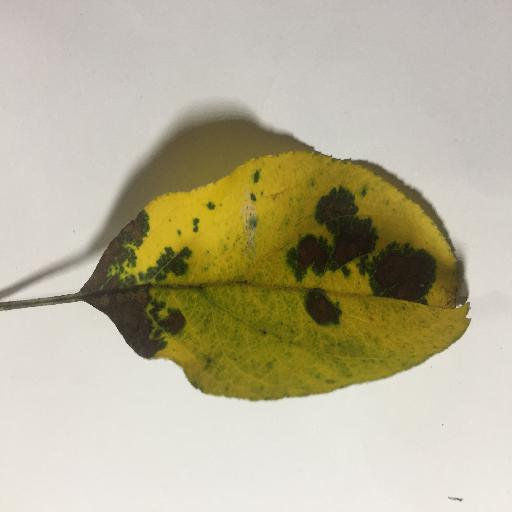Brown_Spot: (271, 176, 441, 349), (70, 209, 191, 364)
